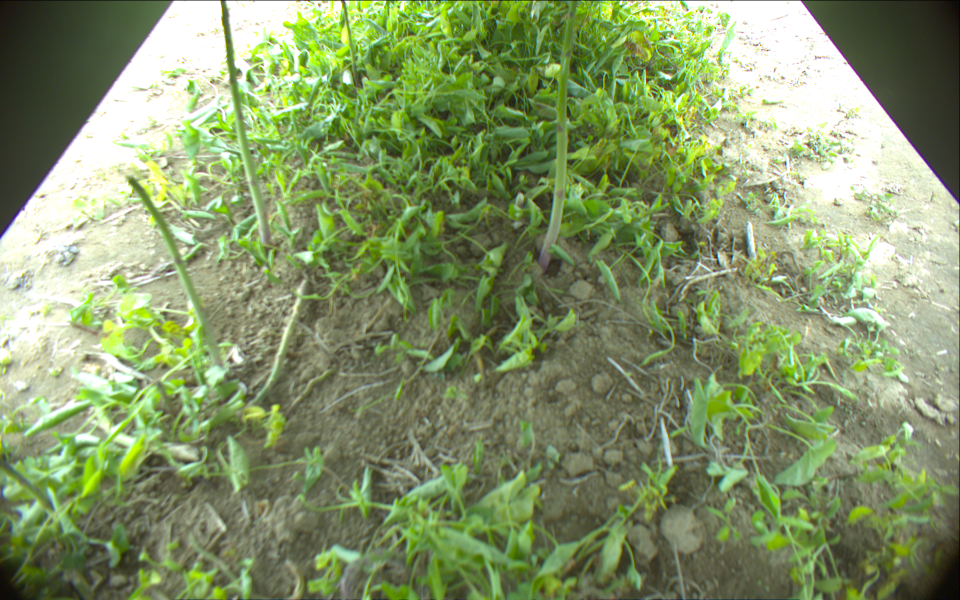aspa: (126, 176, 223, 358), (217, 1, 273, 243), (533, 1, 583, 271), (242, 274, 317, 411), (1, 455, 58, 509), (339, 1, 363, 87)
